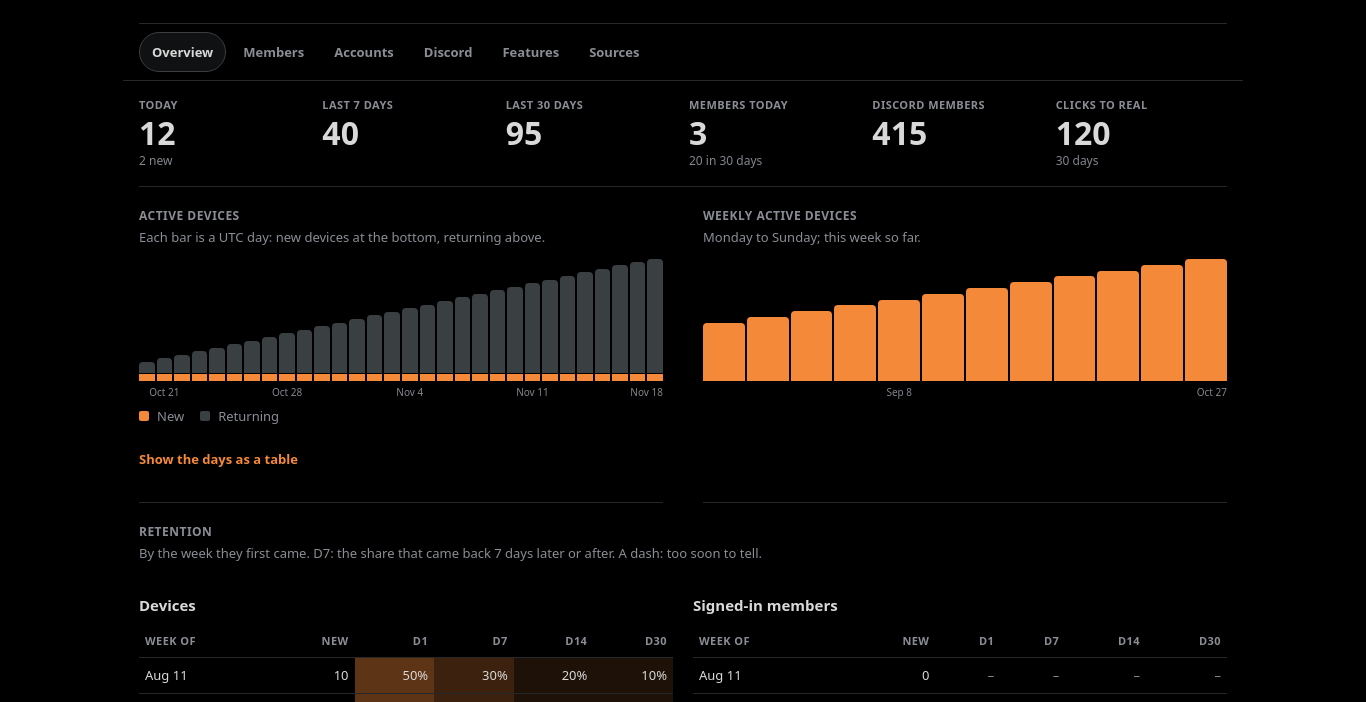
the admin panel's tabs › Features: each feature with its split, and sessions by hour
Click the tab "Features" at (531, 52), box [490,32,572,72]
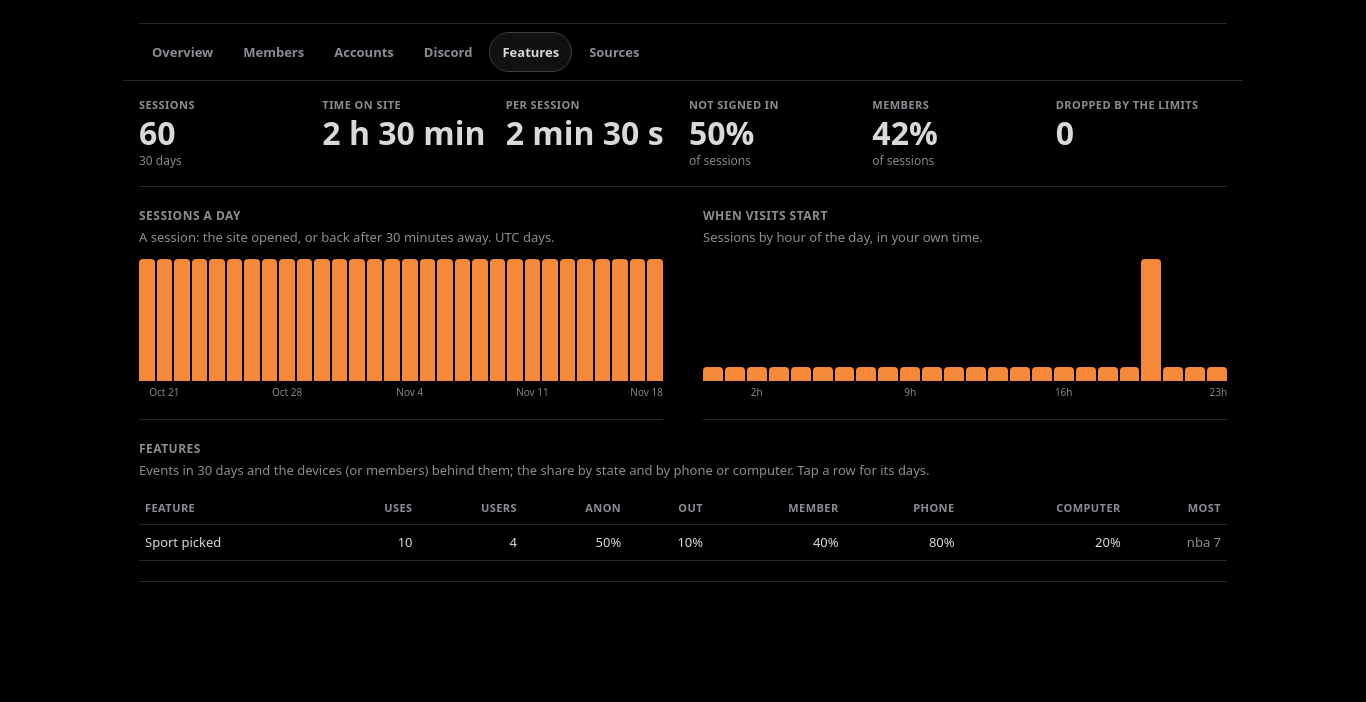
Result: the text "Sport picked" shows "nba 7" at [1187,533,1221,551]
Click the button "Sport picked" at (183, 543), box [145,533,221,552]
(page scrolled)
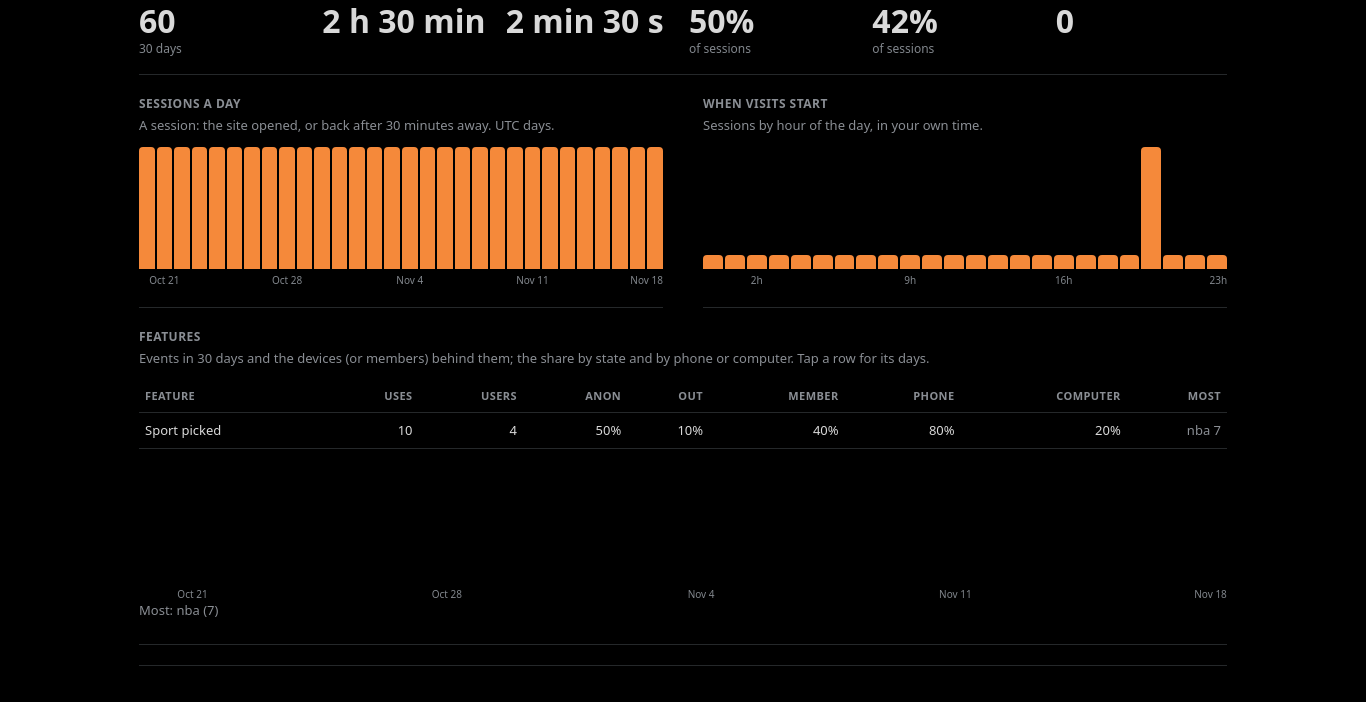
Result: the picture named "Sport picked a day" is shown at [177,587,1227,601]
